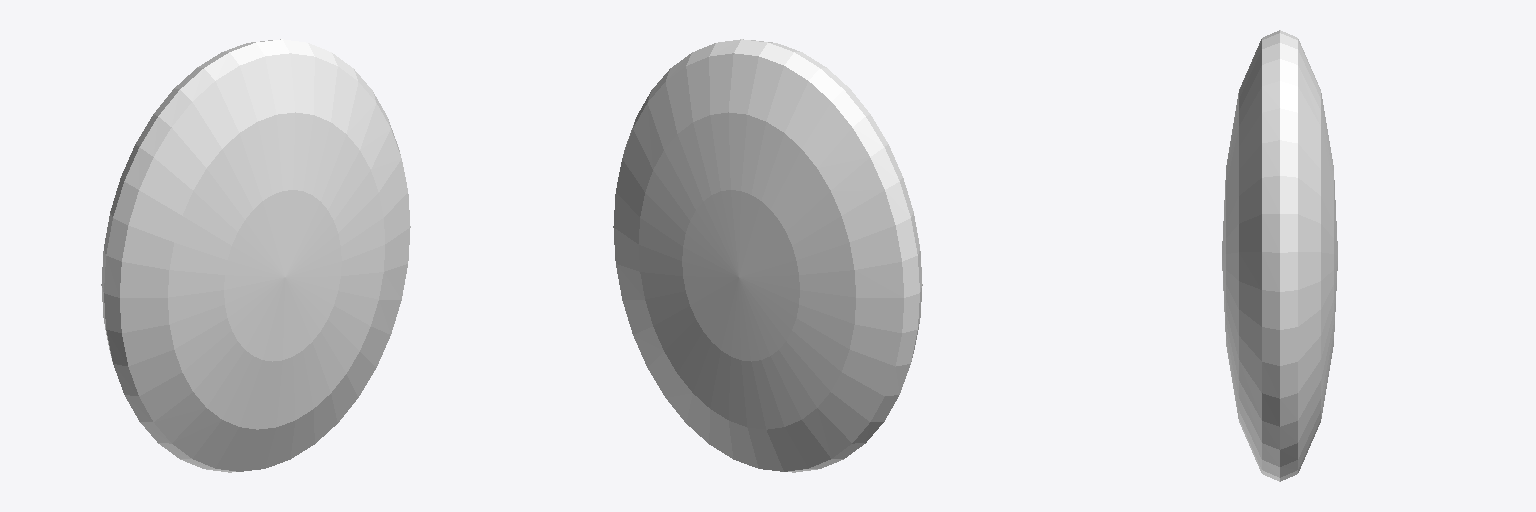
File: FED_Capital_Carrier_Galaxy_Shield.obj
The picture shows the model from 3 angles: view 1: azimuth 30°, elevation 25°; view 2: azimuth 150°, elevation 25°; view 3: azimuth 270°, elevation 25°; orthographic projection.
Parts seen in each view (by area): view 1: Object_1; view 2: Object_1; view 3: Object_1.
Boxes of the visible parts, <box> form: Object_1: <box>101,39,410,472</box>; Object_1: <box>613,39,922,472</box>; Object_1: <box>1222,30,1337,481</box>.
Bounding box in the file's own units: 302 × 406 × 100.